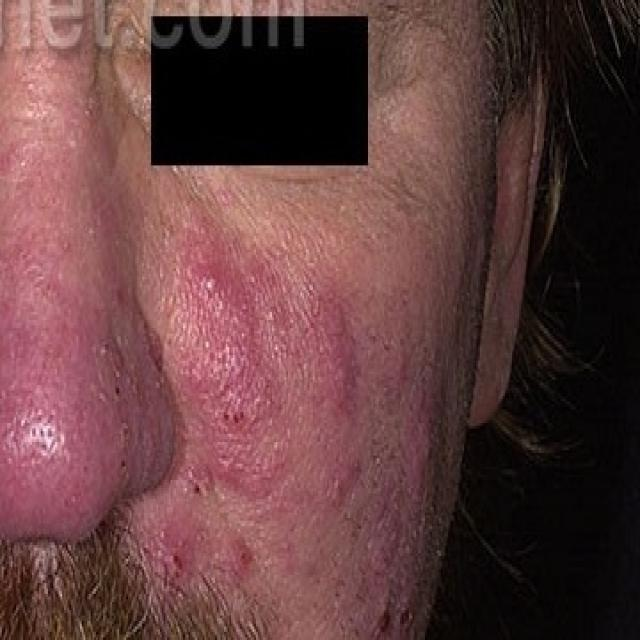Rosacea: (171, 227, 386, 498), (2, 302, 134, 522)
